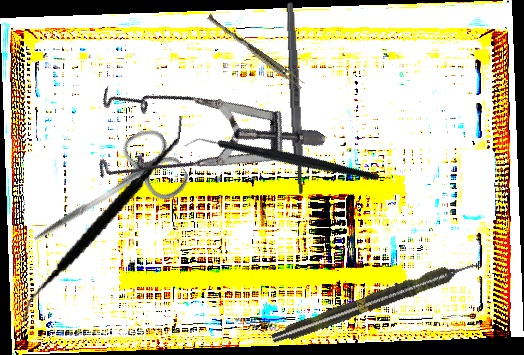Chopper: (182, 78, 381, 243)
Handpiece: (269, 255, 482, 348)
Iris Scissors: (16, 122, 194, 273)
Scalpel Handle: (284, 1, 307, 195)
Spatula Surgical: (20, 96, 184, 342)
Speculum: (63, 19, 328, 270)
Tissue Forceps: (204, 13, 307, 90)
